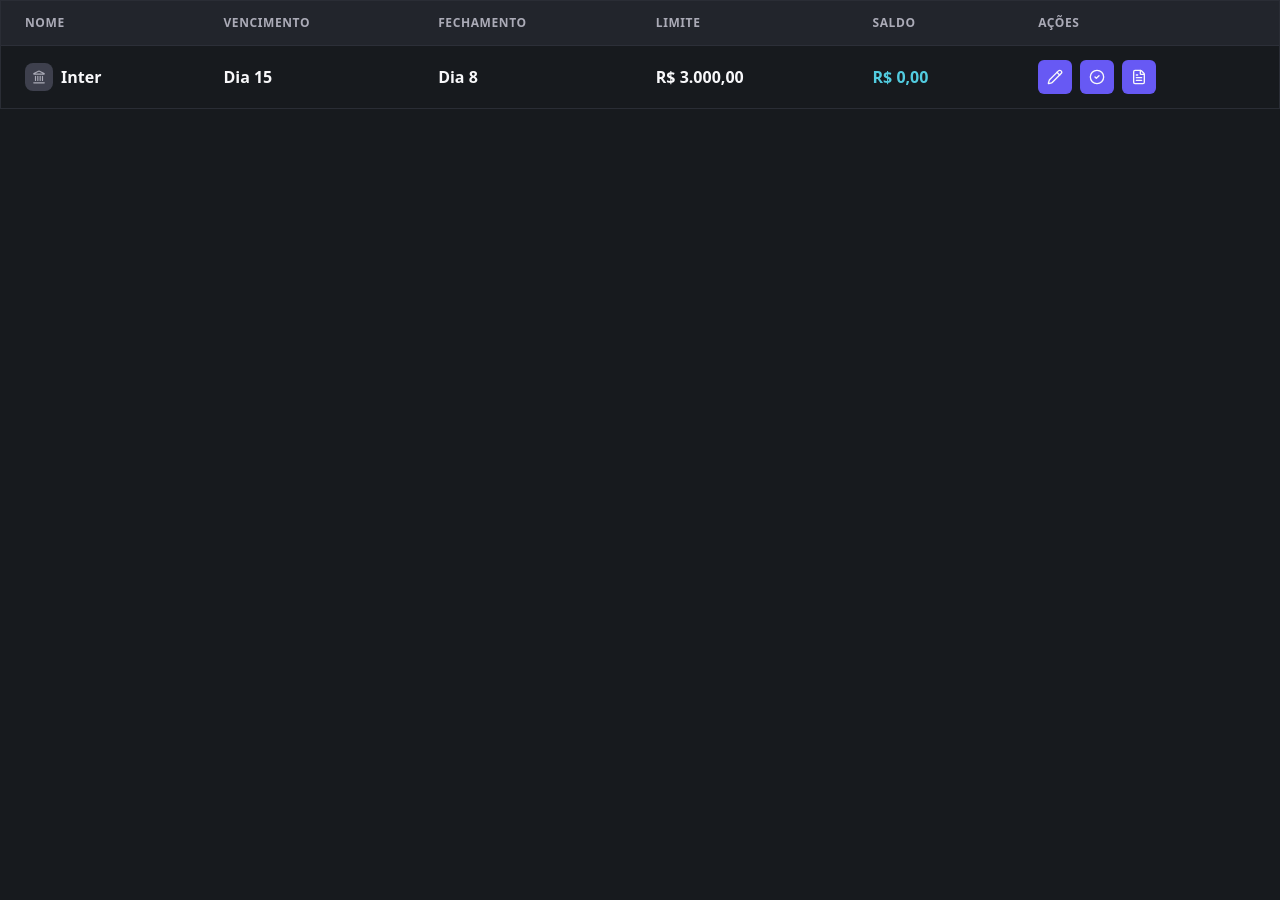
Test: TabelaCartoes › modal de alteração de status › deve abrir modal 'Ativar Cartão' para cartão inativo
The width and height of the screenshot is (1280, 900).
Click the 2nd button. click: point(1097, 77)
box: [1080,60,1114,94]
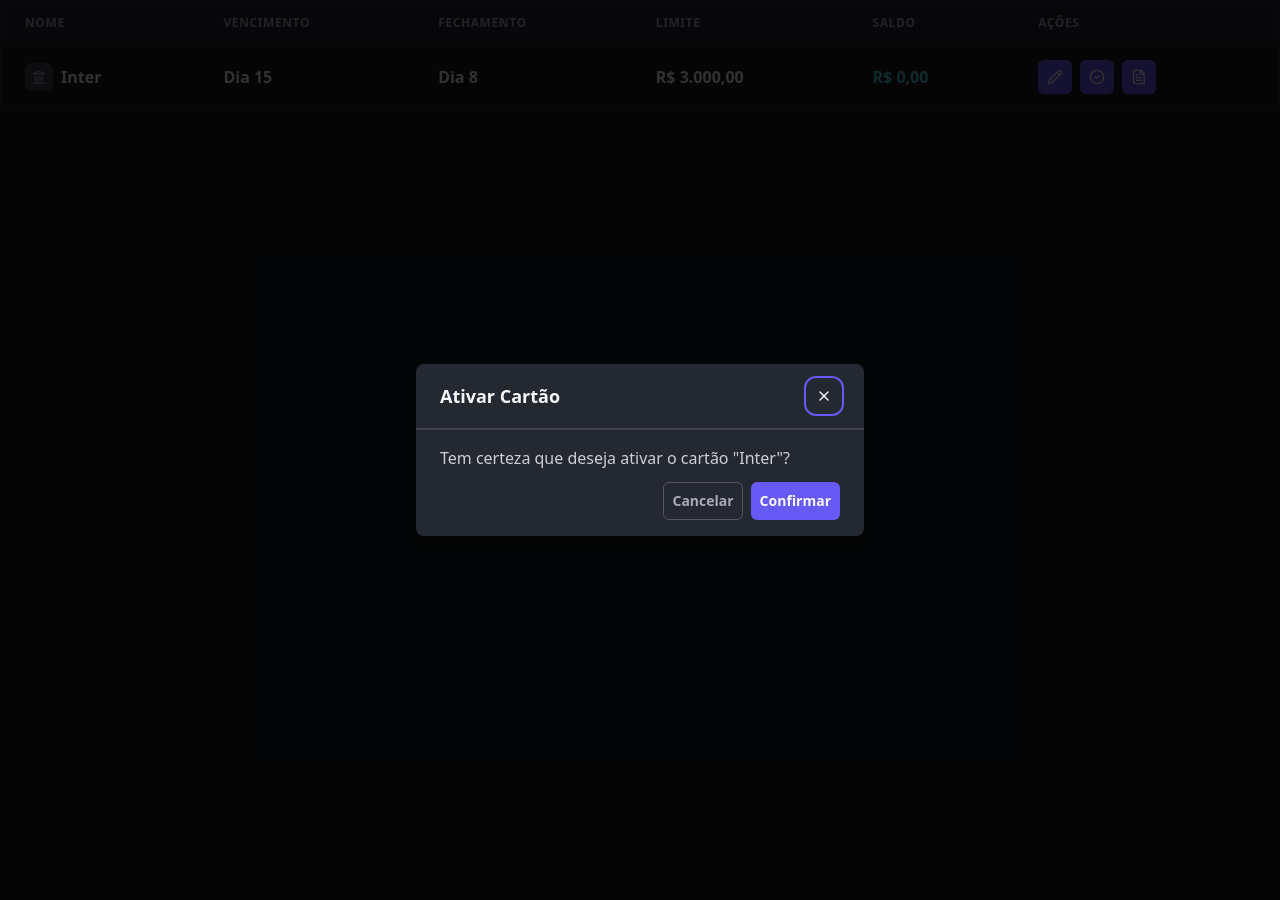
Now the dialog "Ativar Cartão" is shown, box [416,364,864,536]
